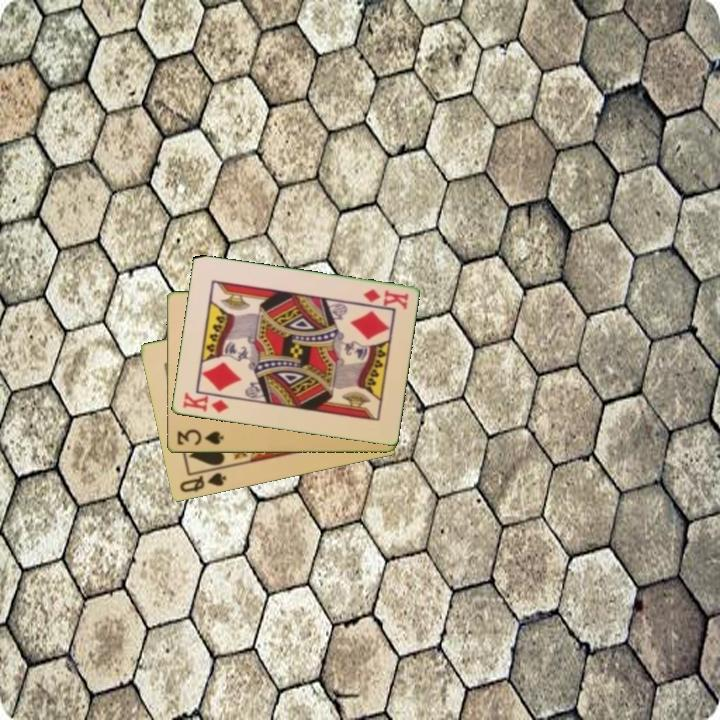3s: (174, 427, 226, 448)
Kd: (179, 389, 231, 416), (359, 286, 411, 311)
Qs: (176, 469, 229, 496)
